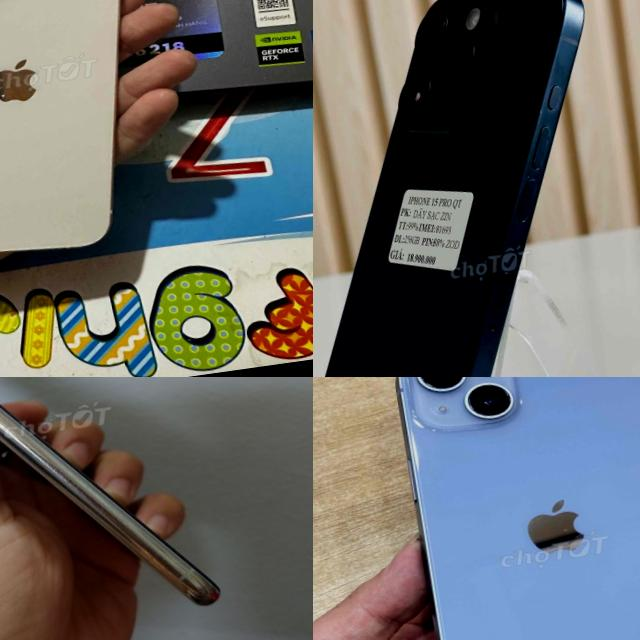gen_11: (0, 377, 236, 640)
gen_12_13: (0, 0, 172, 293)
gen_14: (371, 377, 640, 640)
gen_15: (313, 0, 640, 377)
scratch: (499, 92, 578, 212)
